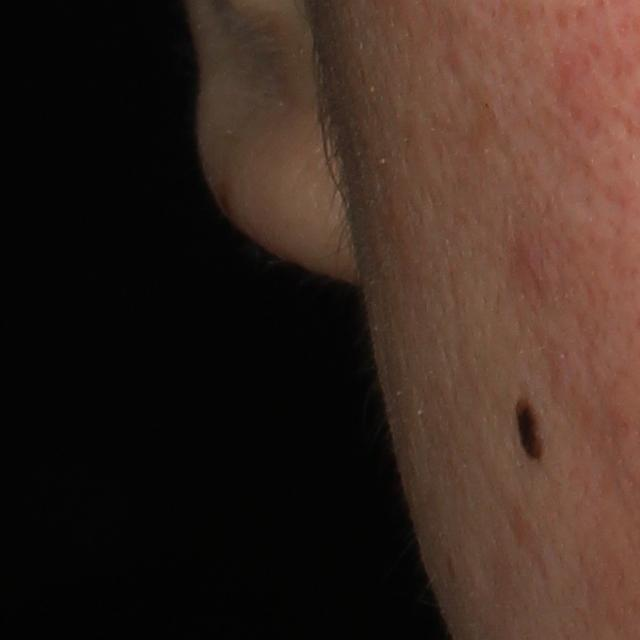nevus: (512, 387, 551, 469)
